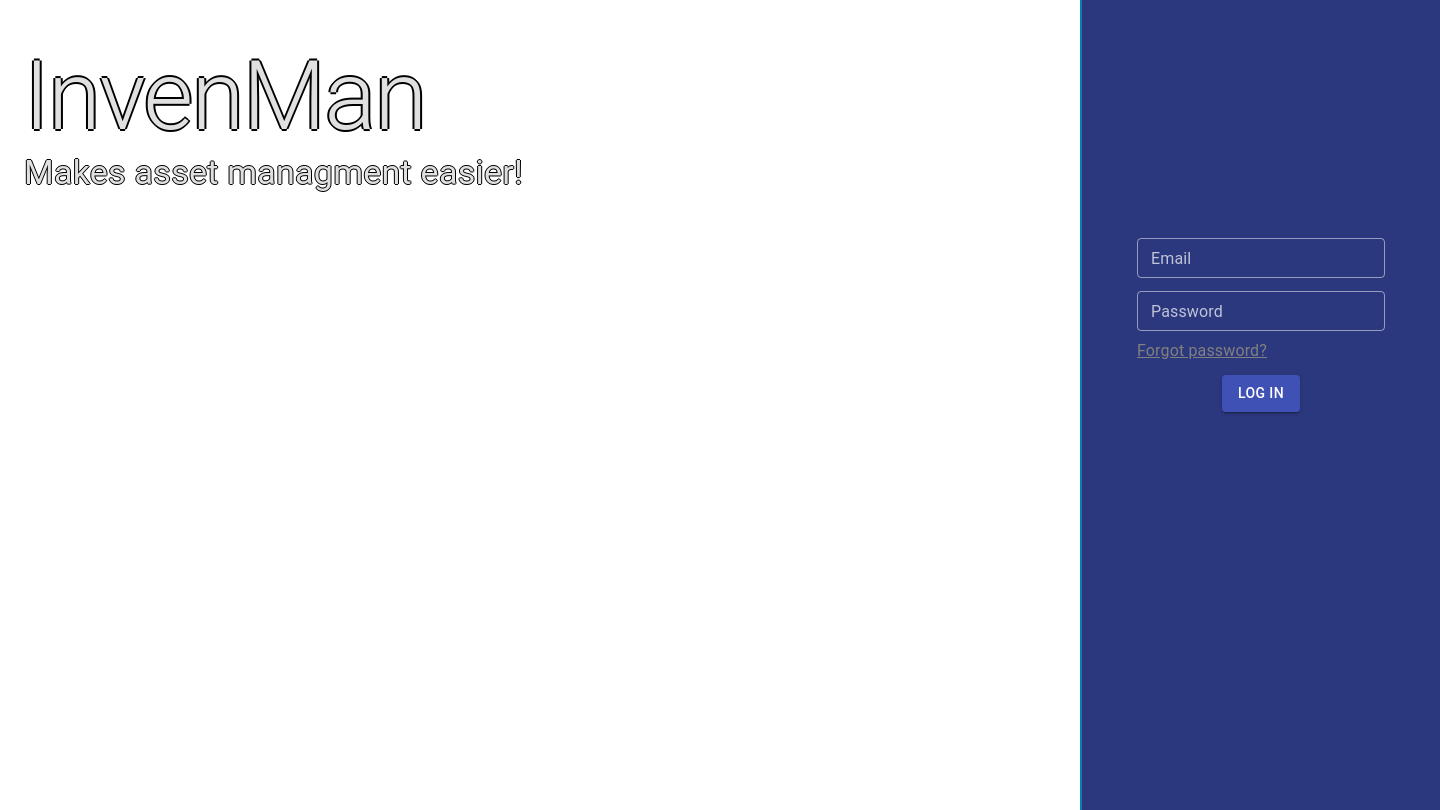
Test: should display required fields error if no values are provided
The image size is (1440, 810).
Click the button "Log in". click: (1261, 393)
box: [1222,375,1300,412]
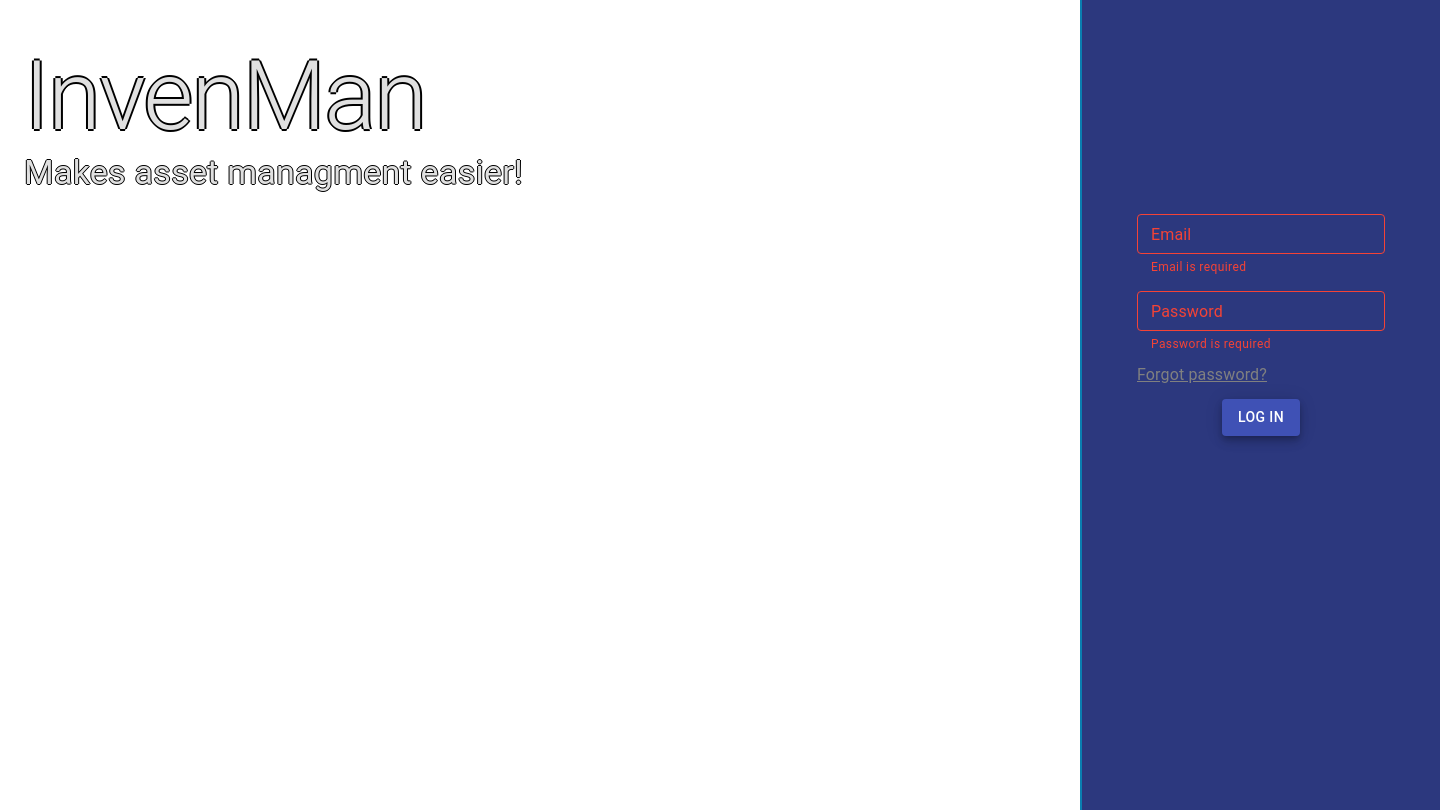
Result: the text "Password is required" is shown at [1151,337,1271,351]
Result: the text "Email is required" is shown at [1151,260,1246,274]
